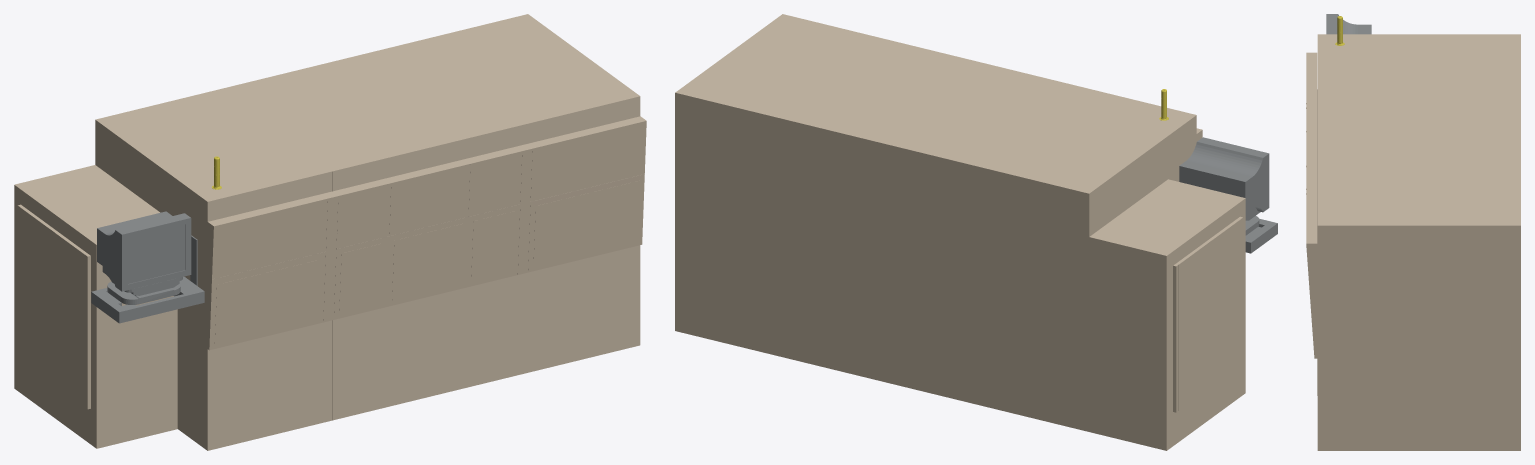
File: molding.glb
3 renders of one model, left to right at view 1: azimuth 30°, elevation 25°; view 2: azimuth 150°, elevation 25°; view 3: azimuth 270°, elevation 25°, orthographic. The views are drawn at different scales.
Visible parts, largest first — view 1: Mesh_Mesh_head_geo.001_lambert2SG.001; view 2: Mesh_Mesh_head_geo.001_lambert2SG.001; view 3: Mesh_Mesh_head_geo.001_lambert2SG.001.
Part boxes in pixels (box(x1,y1,x2,y2)): Mesh_Mesh_head_geo.001_lambert2SG.001: box(14, 14, 646, 450); Mesh_Mesh_head_geo.001_lambert2SG.001: box(675, 14, 1277, 450); Mesh_Mesh_head_geo.001_lambert2SG.001: box(1306, 14, 1520, 450).
Size of the model in its own units: 48 by 24.65 by 19.01.
